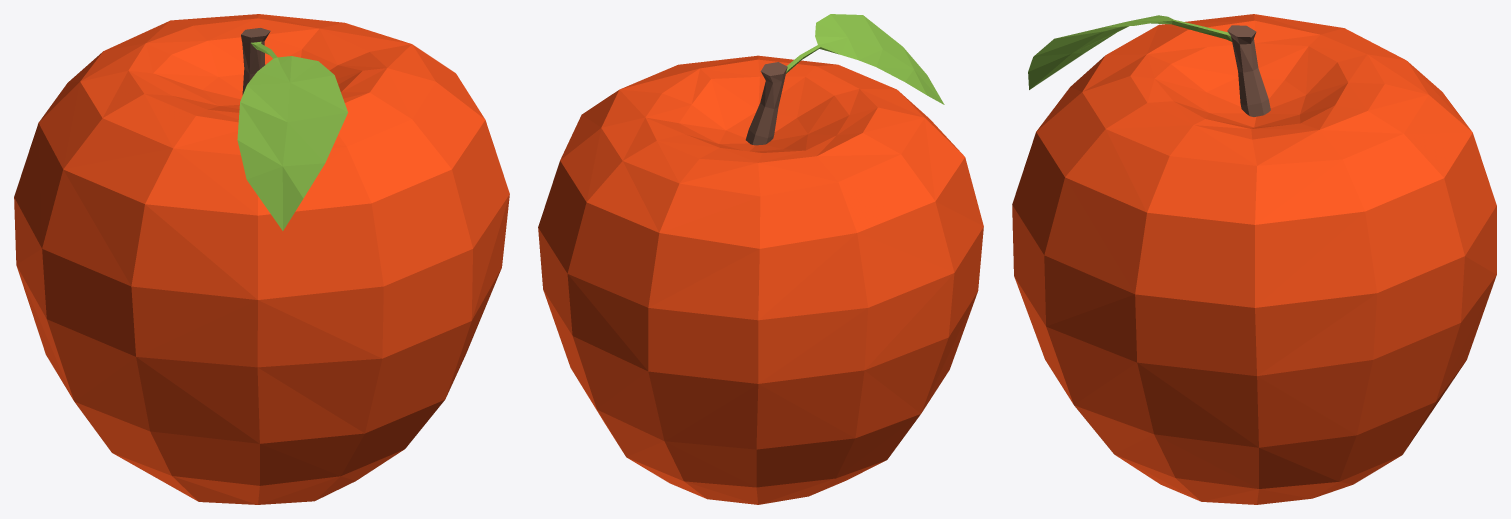
The model's file is apple.glb.
3 renders of one model, left to right at view 1: azimuth 30°, elevation 25°; view 2: azimuth 150°, elevation 25°; view 3: azimuth 270°, elevation 25°, orthographic. The views are drawn at different scales.
Parts seen in each view (by area): view 1: group422595362, group916963156; view 2: group422595362, group916963156; view 3: group422595362, group916963156.
Boxes of the visible parts, box(x1,y1,x2,y2) form: group422595362: box(14, 14, 509, 504); group916963156: box(237, 28, 347, 230); group422595362: box(538, 55, 983, 504); group916963156: box(745, 14, 944, 145); group422595362: box(1012, 14, 1496, 504); group916963156: box(1028, 15, 1270, 116).
Size of the model in its own units: 1.66 by 1.63 by 1.63.
